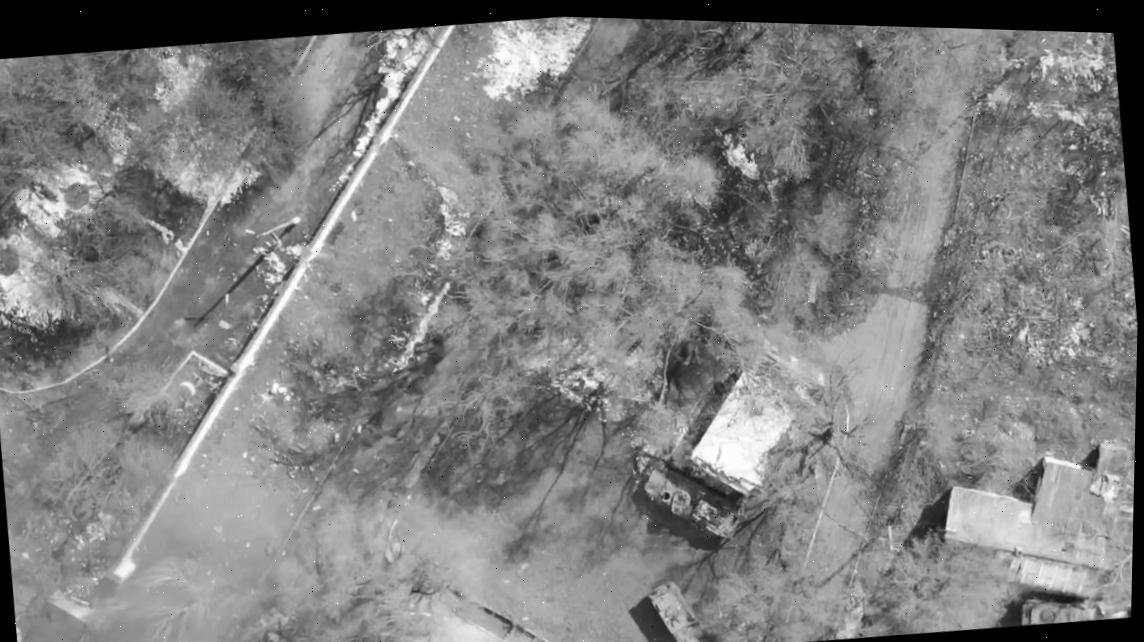tank: (639, 455, 747, 545), (645, 575, 707, 642)
